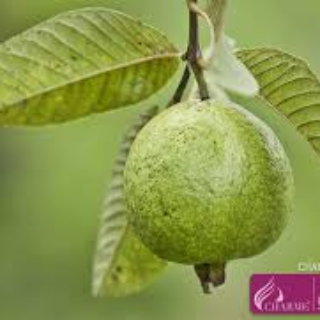oi: (121, 92, 307, 277)
